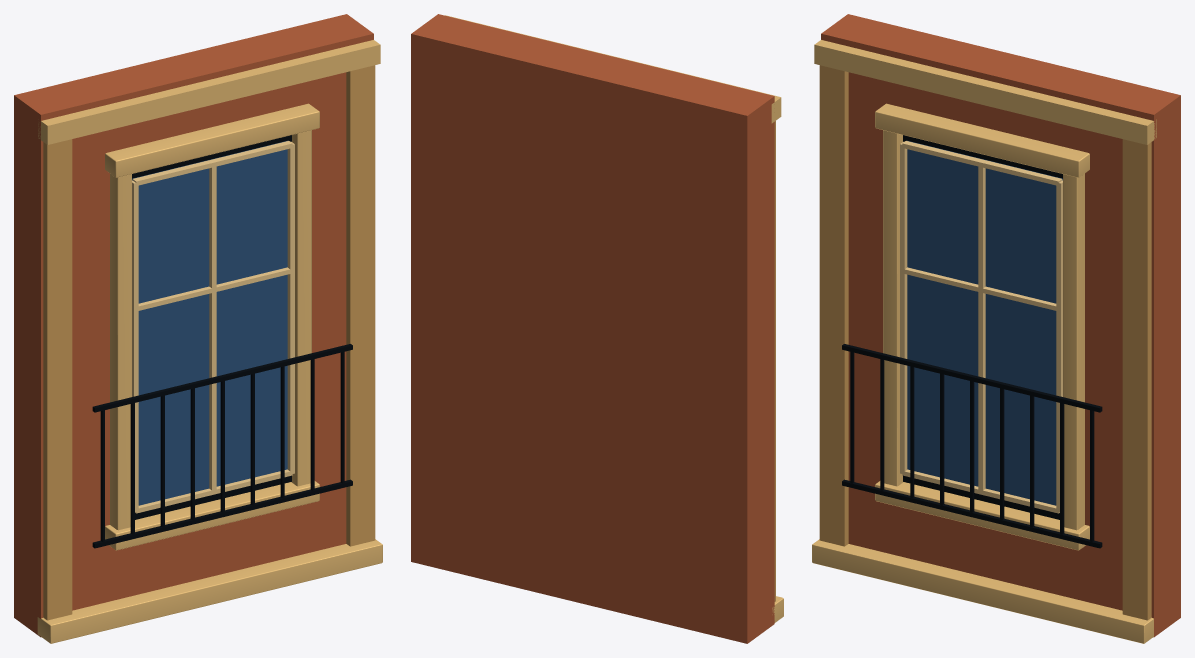
Rendered from etage-brique-2m.glb.
3 views of the same model, side by side, from view 1: azimuth 30°, elevation 25°; view 2: azimuth 150°, elevation 25°; view 3: azimuth 330°, elevation 25° (orthographic).
Visible parts, largest first — view 1: etage-brique-2m; view 2: etage-brique-2m; view 3: etage-brique-2m.
Part boxes in pixels (bbox=[...]): etage-brique-2m: bbox=[14, 14, 382, 643]; etage-brique-2m: bbox=[411, 14, 783, 643]; etage-brique-2m: bbox=[812, 14, 1180, 643].
Size of the model in its own units: 2 by 3 by 0.4515.
1 material, 1 textured.
